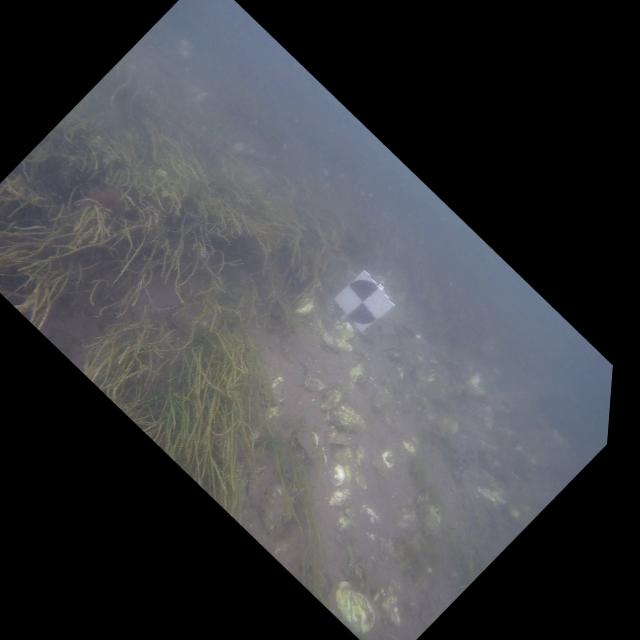Oyster-Closed: (259, 482, 302, 537), (335, 581, 374, 633), (329, 405, 364, 433), (320, 386, 342, 414), (331, 321, 352, 341), (304, 374, 325, 391), (270, 377, 283, 404)
Oyster-Indeterminate: (371, 451, 393, 476), (348, 359, 366, 384), (331, 444, 351, 465), (294, 294, 313, 314), (337, 507, 353, 529), (329, 489, 349, 506), (332, 464, 346, 486), (361, 505, 378, 523), (326, 432, 347, 445), (265, 405, 279, 418)
Oyster-Open: (290, 428, 320, 463), (320, 326, 353, 354), (243, 464, 269, 498), (355, 376, 371, 387)
